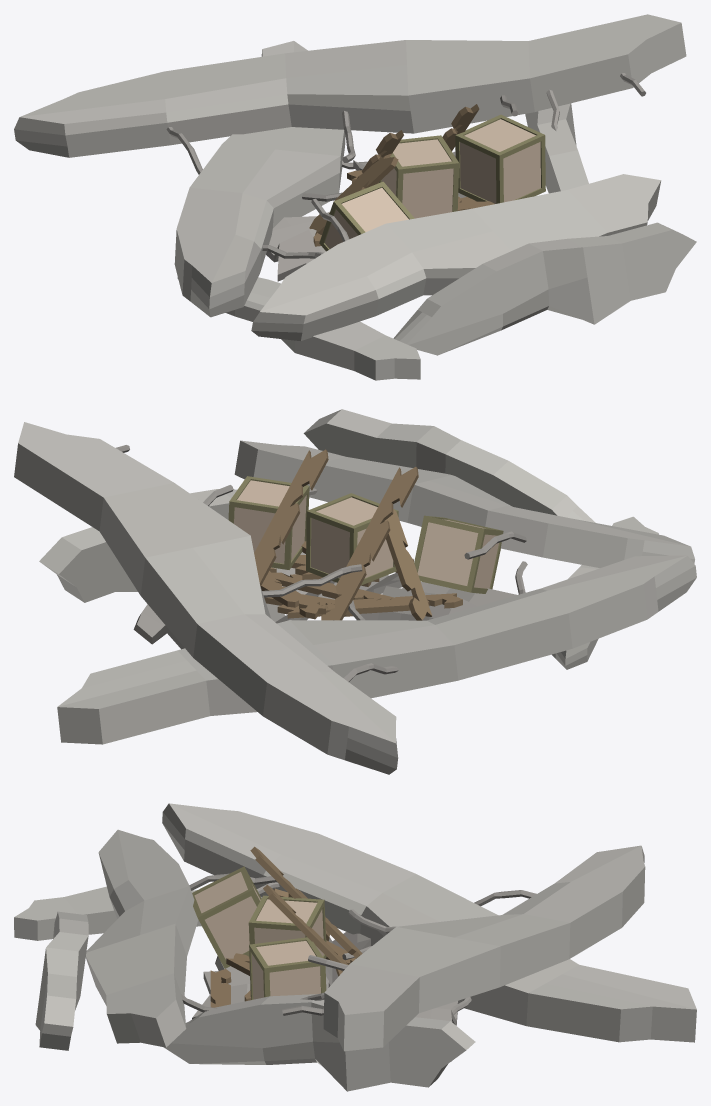
File: BonFire.fbx
The picture shows the model from 3 angles, top to bottom: view 1: azimuth 30°, elevation 25°; view 2: azimuth 150°, elevation 25°; view 3: azimuth 270°, elevation 25°; orthographic projection. The views are drawn at different scales.
Visible parts, largest first — view 1: BonFire; view 2: BonFire; view 3: BonFire.
Part boxes in pixels (<box>): BonFire: <box>14,14,696,380</box>; BonFire: <box>14,409,696,774</box>; BonFire: <box>14,803,696,1091</box>.
Bounding box in the file's own units: 12.4 × 2.94 × 13.01.
